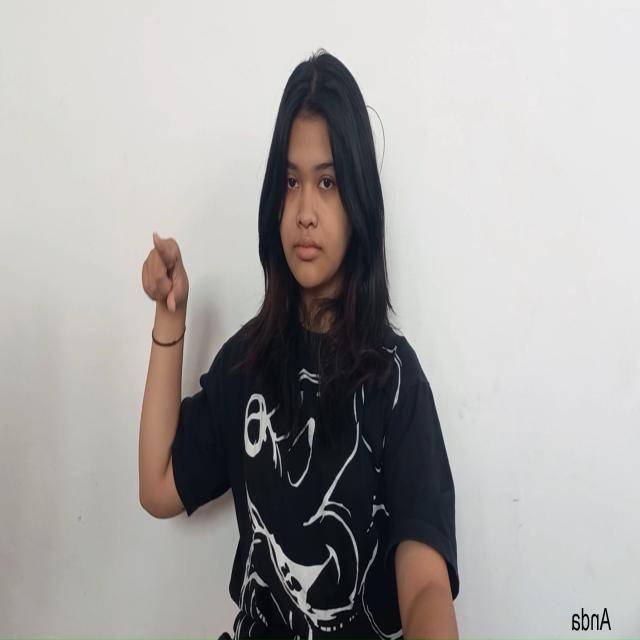Anda -BISINDO-: (141, 230, 190, 324)
